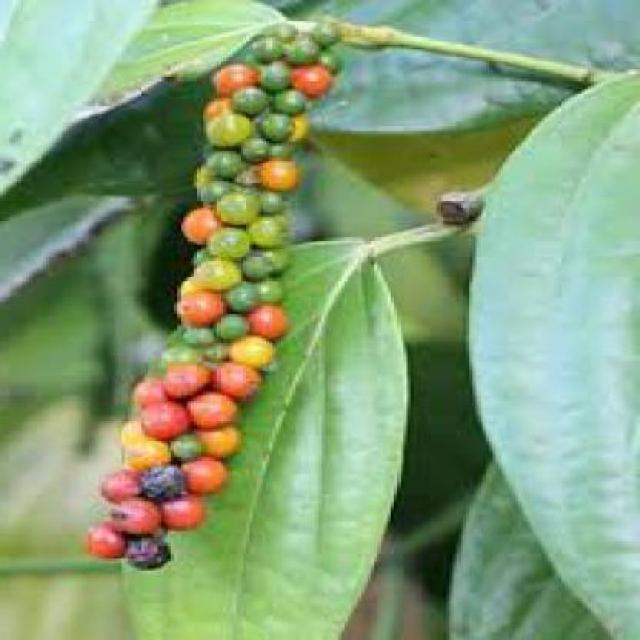RIPE: (83, 279, 286, 572)
